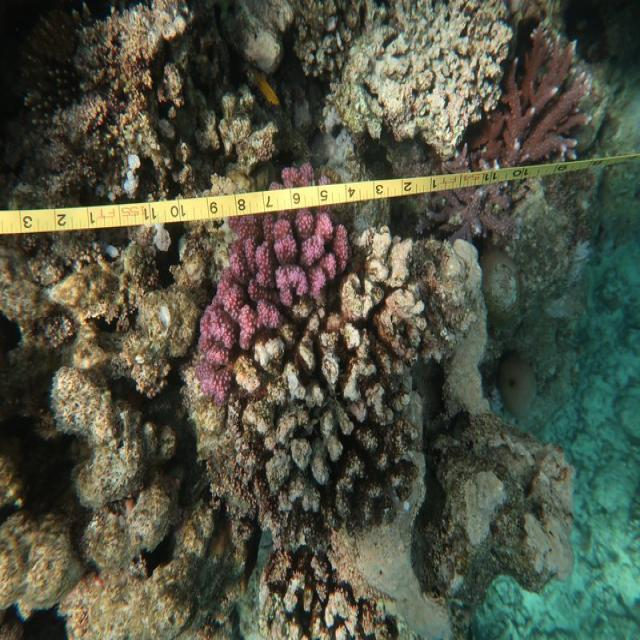Healthy Coral: (188, 206, 338, 397), (477, 30, 591, 176)
